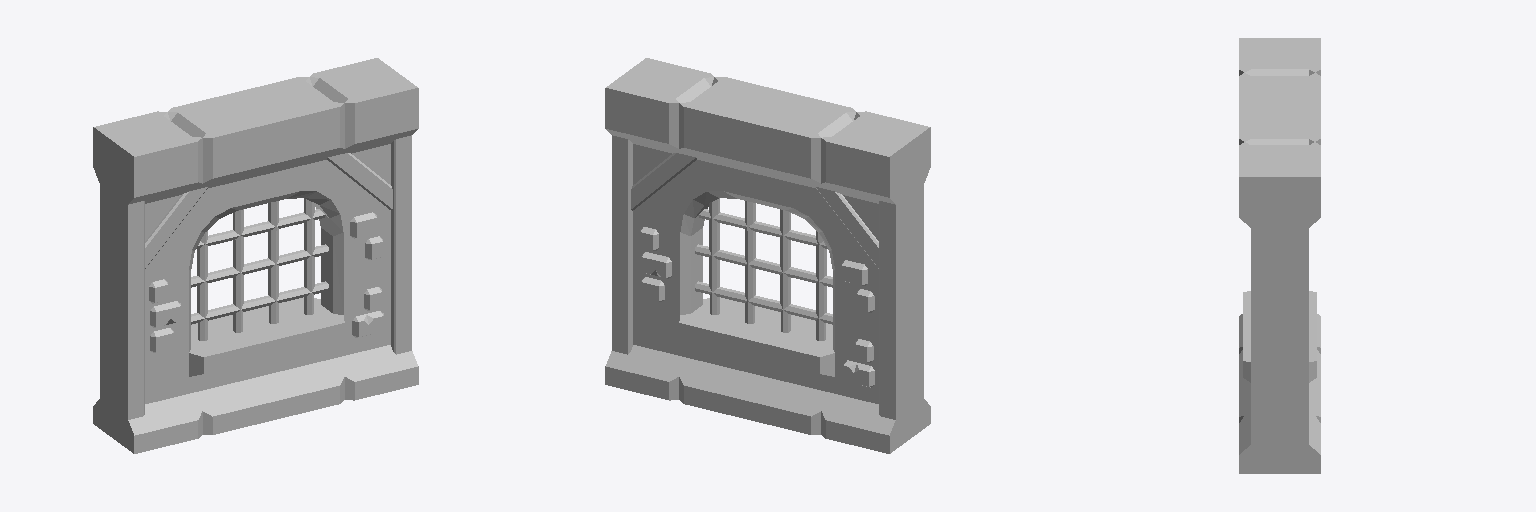
Rendered from wall_archedwindow_gated_scaffold.obj.
3 views of the same model, side by side, from view 1: azimuth 30°, elevation 25°; view 2: azimuth 150°, elevation 25°; view 3: azimuth 270°, elevation 25° (orthographic).
Parts seen in each view (by area): view 1: wall_archedwindow_gated_scaffold_Cube.13124; view 2: wall_archedwindow_gated_scaffold_Cube.13124; view 3: wall_archedwindow_gated_scaffold_Cube.13124.
Part boxes in pixels (x1,y1,x2,y2): wall_archedwindow_gated_scaffold_Cube.13124: (93,58,418,453); wall_archedwindow_gated_scaffold_Cube.13124: (605,58,930,453); wall_archedwindow_gated_scaffold_Cube.13124: (1239,38,1320,473).
Bounding box in the file's own units: 4 × 4 × 1.